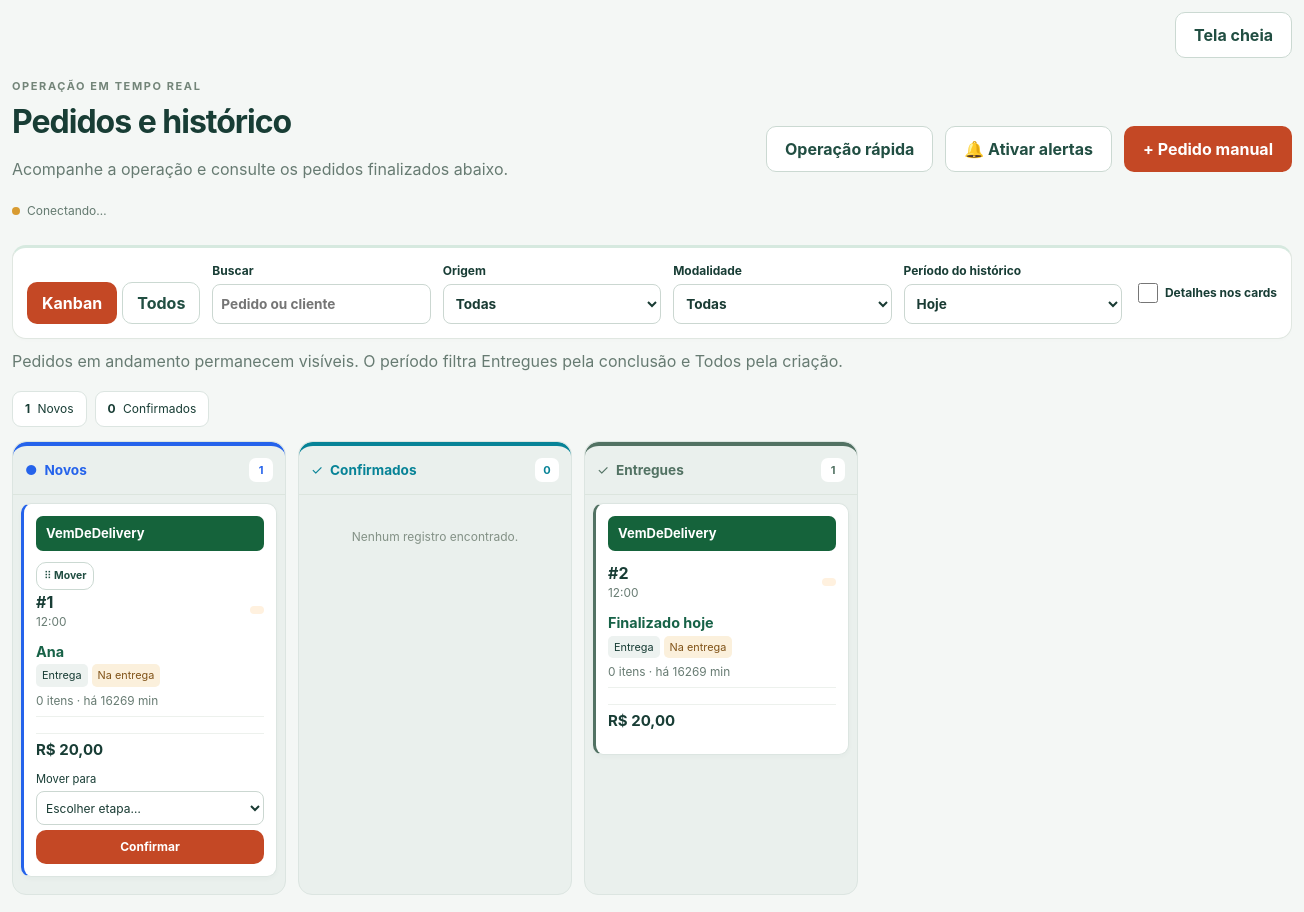
delivered today remains accessible and Todos is a separate history view
expect the element with class "status-delivered" shows "Finalizado hoje": met, box [608,612,836,634]
Click the button "Todos". click: (161,303)
box: [122,282,200,324]
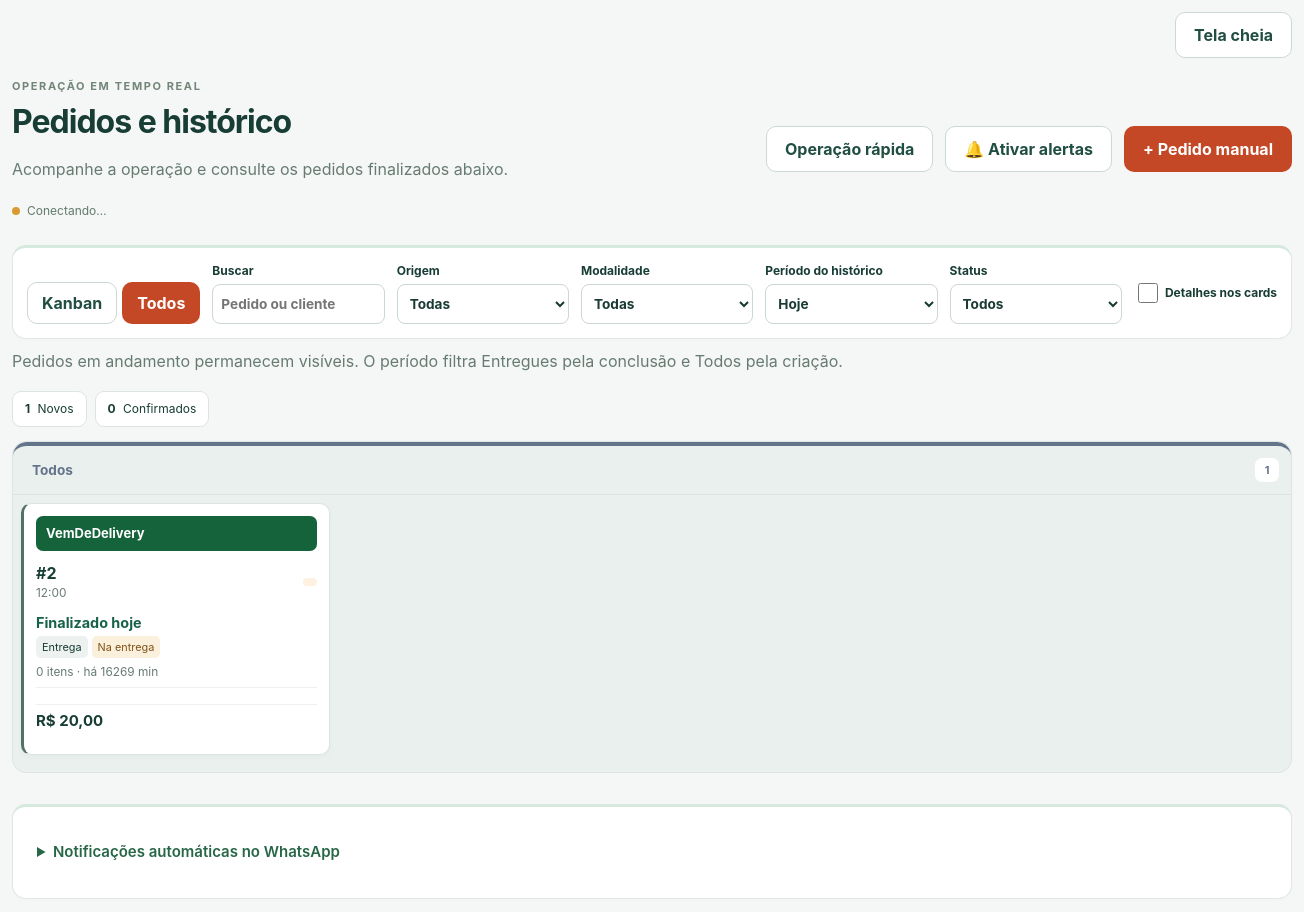
expect the element with class "history-board" shows "Finalizado hoje": met, box [36,612,317,634]
expect the link "Ana" is gone: met
